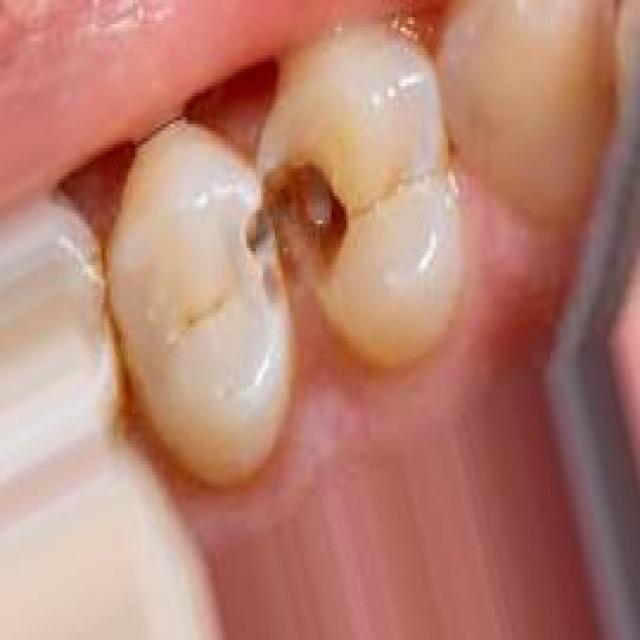caries: (222, 145, 377, 320)
